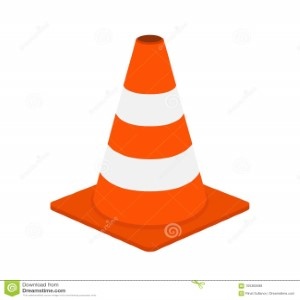traffic cone: (50, 35, 249, 252)
